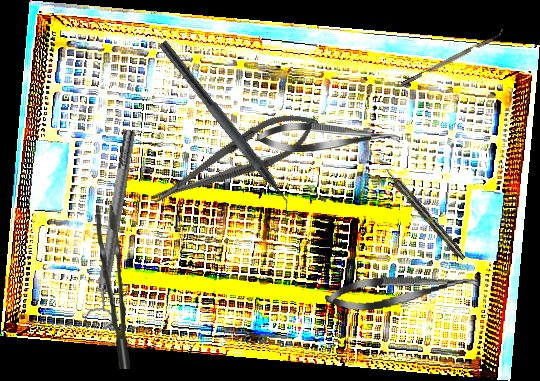Chopper: (146, 38, 305, 227), (398, 26, 506, 87)
Fixation Ring: (80, 127, 148, 331)
Handpiece: (382, 166, 468, 262)
Micro Scissor: (323, 265, 481, 316), (257, 123, 400, 152)
Needle Holder: (143, 98, 327, 220)
Tissue Forceps: (96, 205, 130, 369)
